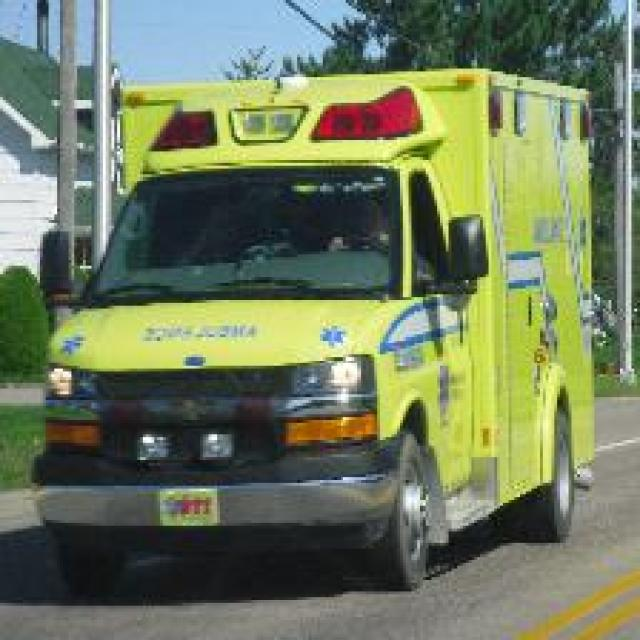Ambulance: (29, 63, 597, 591)
